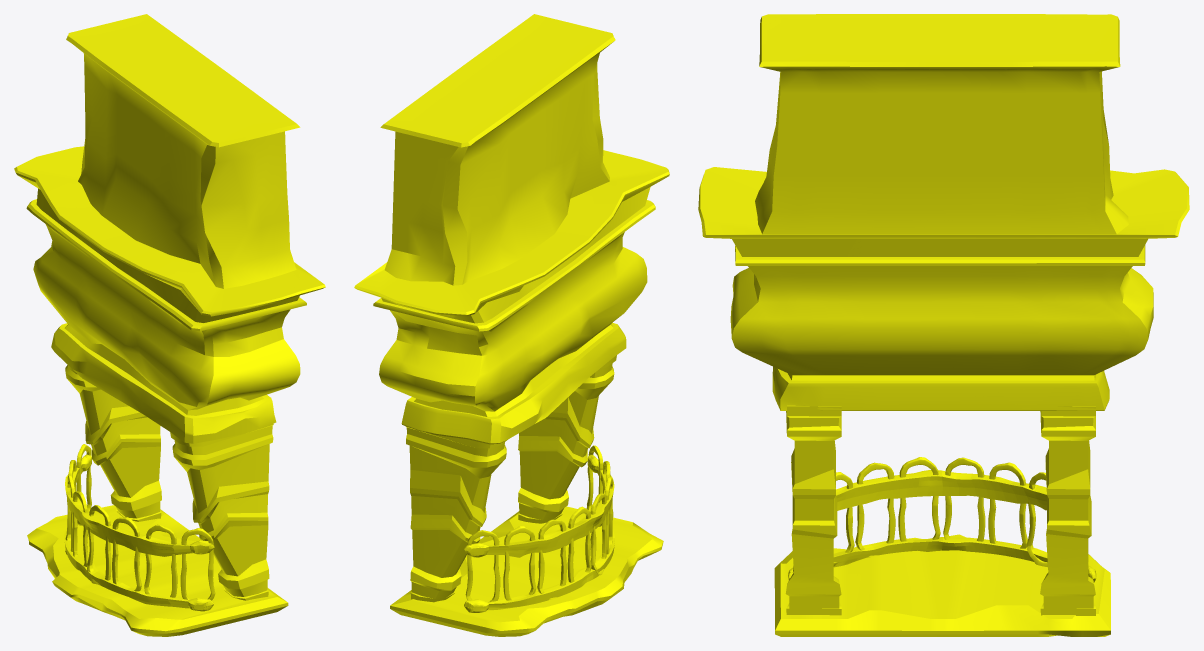
File: cheminee.fbx
3 views of the same model, side by side, from view 1: azimuth 30°, elevation 25°; view 2: azimuth 150°, elevation 25°; view 3: azimuth 270°, elevation 25° (orthographic). The views are drawn at different scales.
Visible parts, largest first — view 1: cheminee; view 2: cheminee; view 3: cheminee.
Boxes of the visible parts, bbox=[...] form: cheminee: bbox=[14, 14, 325, 636]; cheminee: bbox=[354, 14, 669, 636]; cheminee: bbox=[698, 14, 1189, 636].
Size of the model in its own units: 11.75 by 33.41 by 25.55.
